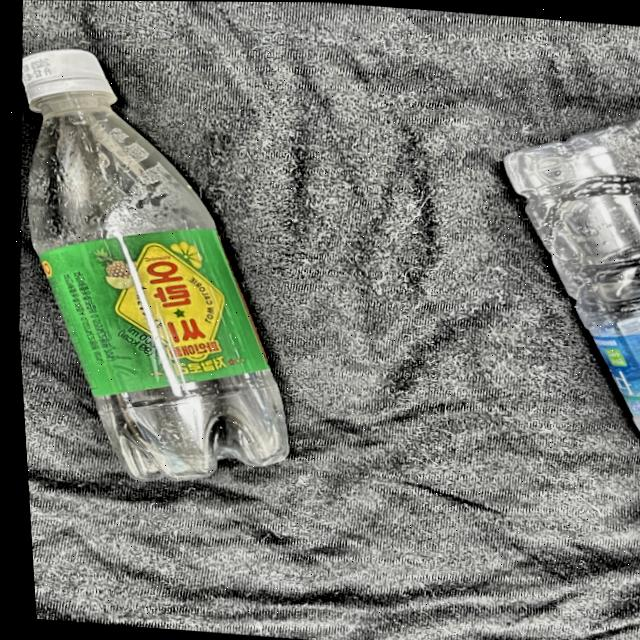plastic: (16, 21, 315, 514), (465, 88, 640, 471)
